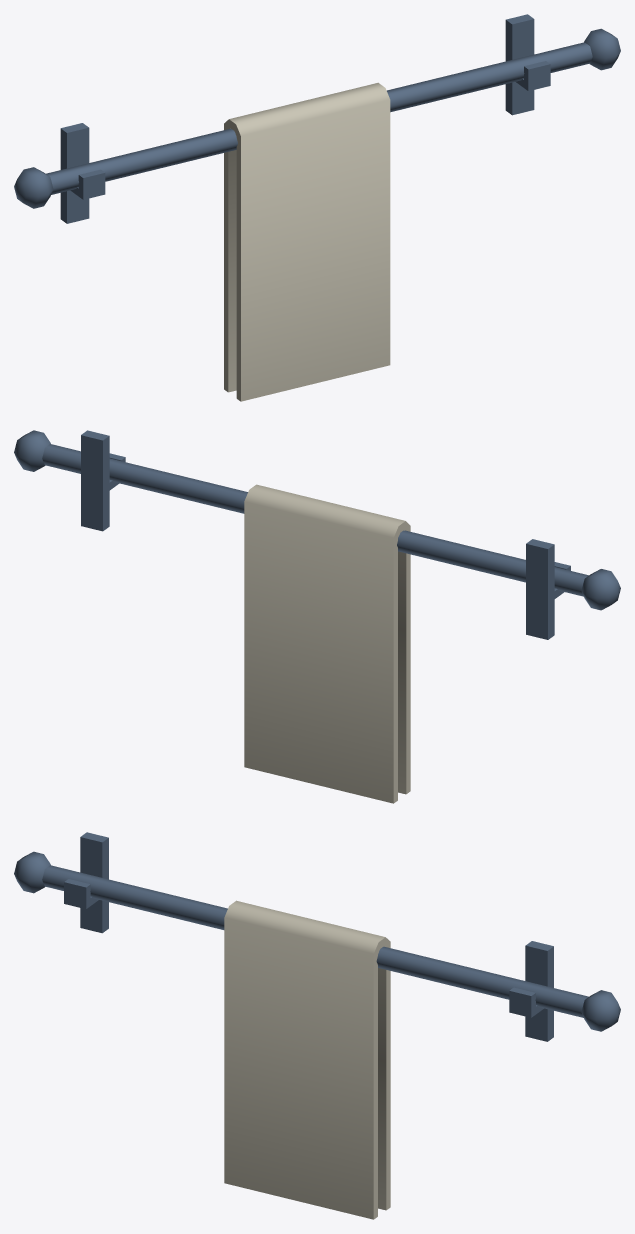
The model's file is TowelRack_01.fbx.
3 views of the same model, one above another, from view 1: azimuth 30°, elevation 25°; view 2: azimuth 150°, elevation 25°; view 3: azimuth 330°, elevation 25° (orthographic).
Visible parts, largest first — view 1: TowelRack_01; view 2: TowelRack_01; view 3: TowelRack_01.
Boxes of the visible parts, box(x1,y1,x2,y2) form: TowelRack_01: box(14, 14, 620, 401); TowelRack_01: box(14, 430, 620, 803); TowelRack_01: box(14, 832, 620, 1219).
Size of the model in its own units: 0.8184 by 0.386 by 0.055.
